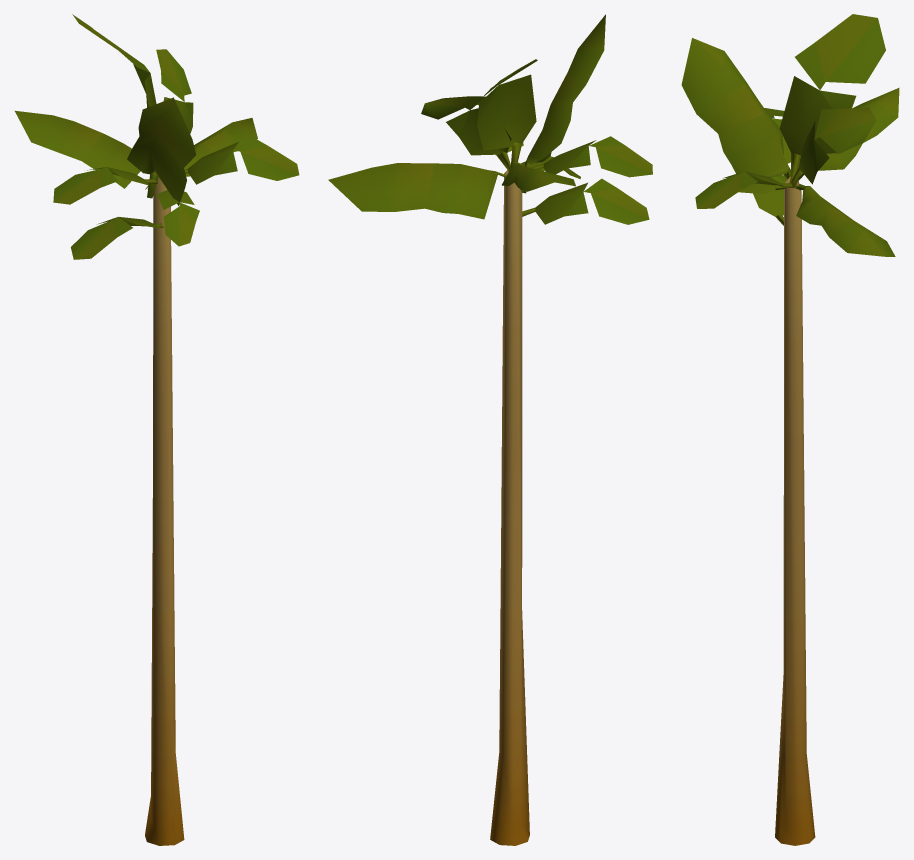
File: SM_Coconut_Tree_01.fbx
The picture shows the model from 3 angles, left to right: view 1: azimuth 30°, elevation 25°; view 2: azimuth 150°, elevation 25°; view 3: azimuth 270°, elevation 25°; orthographic projection. The views are drawn at different scales.
Visible parts, largest first — view 1: SM_Coconut_Tree_01; view 2: SM_Coconut_Tree_01; view 3: SM_Coconut_Tree_01.
Boxes of the visible parts, x1=… form: SM_Coconut_Tree_01: x1=15, y1=14, x2=299, y2=845; SM_Coconut_Tree_01: x1=328, y1=14, x2=652, y2=845; SM_Coconut_Tree_01: x1=681, y1=14, x2=899, y2=845.
Size of the model in its own units: 2.55 by 7.53 by 1.87.
